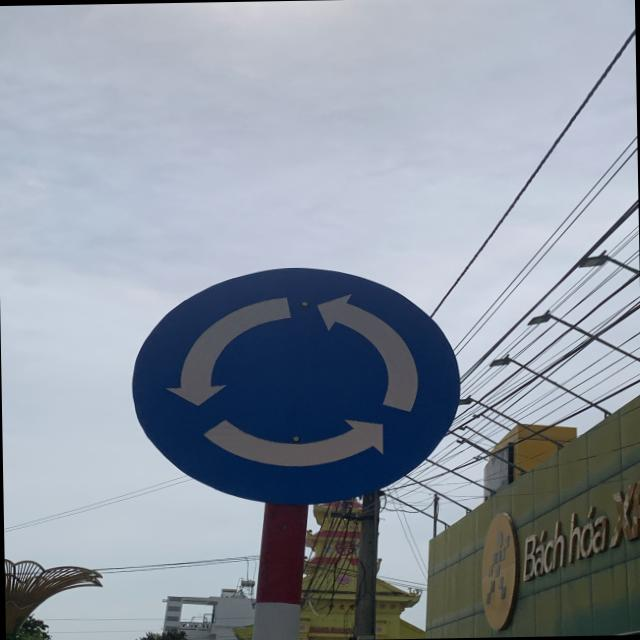Xe_Bus: (128, 262, 460, 508)
